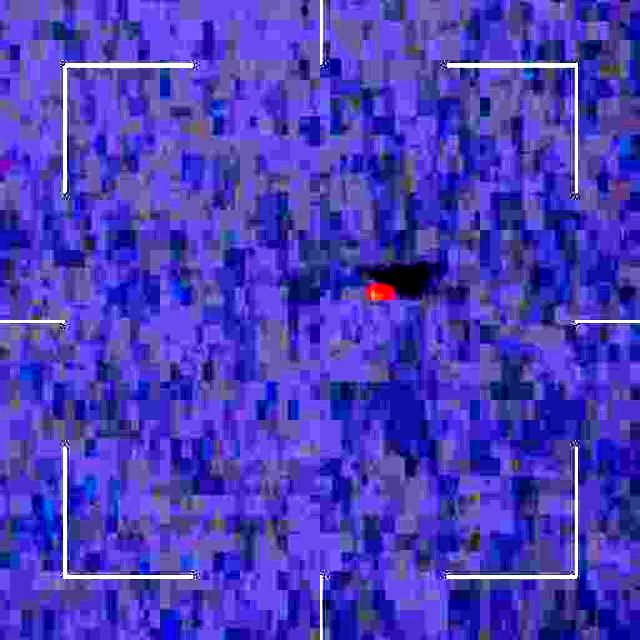bird: (368, 270, 401, 312)
